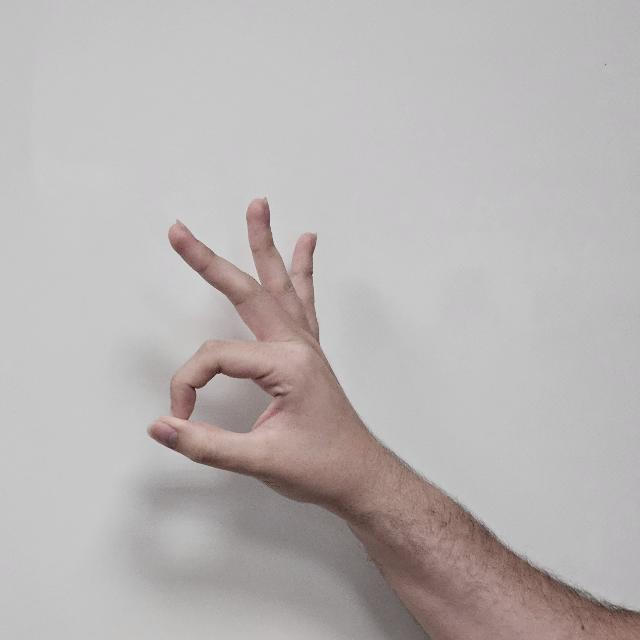Bolinha: (140, 173, 410, 547)
